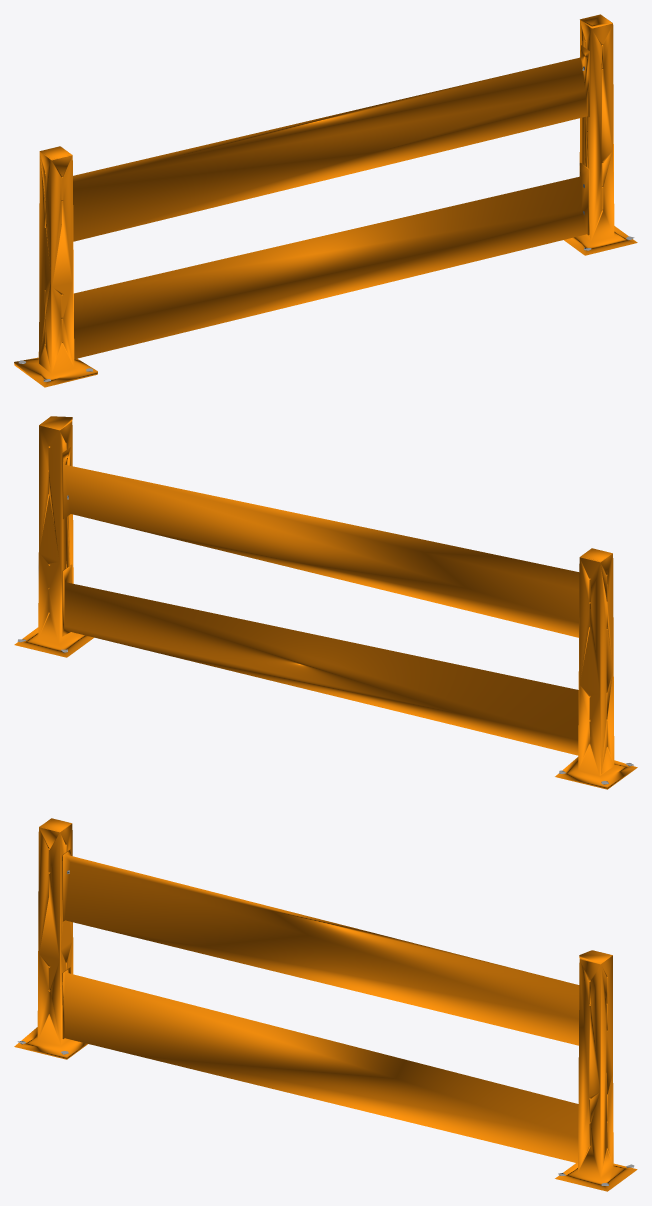
File: rail.glb
3 renders of one model, top to bottom at view 1: azimuth 30°, elevation 25°; view 2: azimuth 150°, elevation 25°; view 3: azimuth 330°, elevation 25°, orthographic.
Visible parts, largest first — view 1: sm_rail_guard_a09_caps_01_mesh_00; view 2: sm_rail_guard_a09_caps_01_mesh_00; view 3: sm_rail_guard_a09_caps_01_mesh_00.
Part boxes in pixels (x1,y1,x2,y2): sm_rail_guard_a09_caps_01_mesh_00: [14, 14, 637, 387]; sm_rail_guard_a09_caps_01_mesh_00: [14, 416, 637, 789]; sm_rail_guard_a09_caps_01_mesh_00: [14, 818, 637, 1191].
Size of the model in its own units: 2.78 by 0.9891 by 0.2485.
2 materials, 1 textured.
